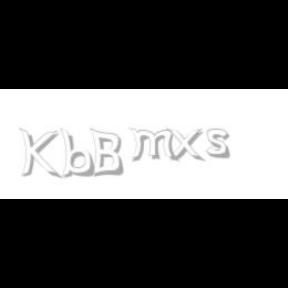B: (89, 128, 123, 178)
K: (19, 128, 59, 180)
b: (60, 128, 98, 178)
m: (128, 128, 180, 162)
s: (206, 128, 234, 160)
x: (166, 128, 208, 162)
